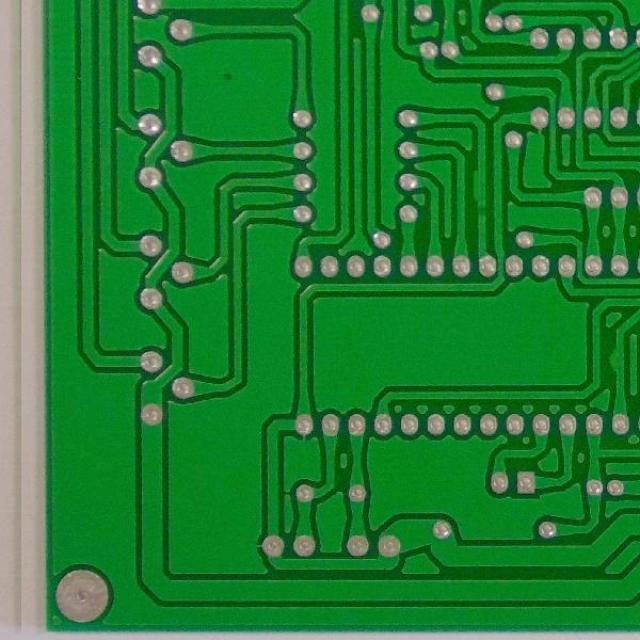spur: (602, 344, 623, 376), (470, 162, 484, 207)
